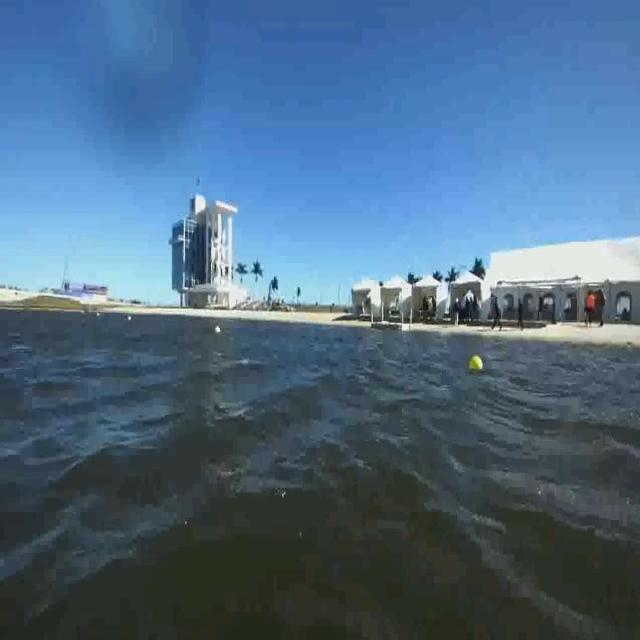yellow-buoy: (468, 353, 483, 374)
